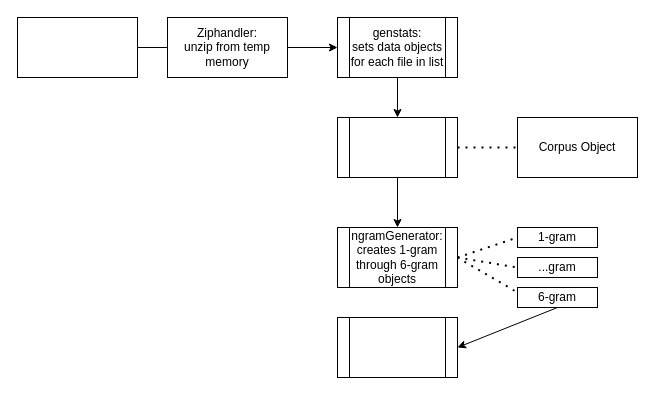
This 655x395 diagram has some shape labels left out. Each missing label, with the centre of its shape:
"GenCorpus: This creates corpus" belongs at (x=397, y=147).
"StatGenerator: Creates the stats table from the ngram objecs" belongs at (x=397, y=347).
"Zipdownloader" belongs at (x=77, y=47).
